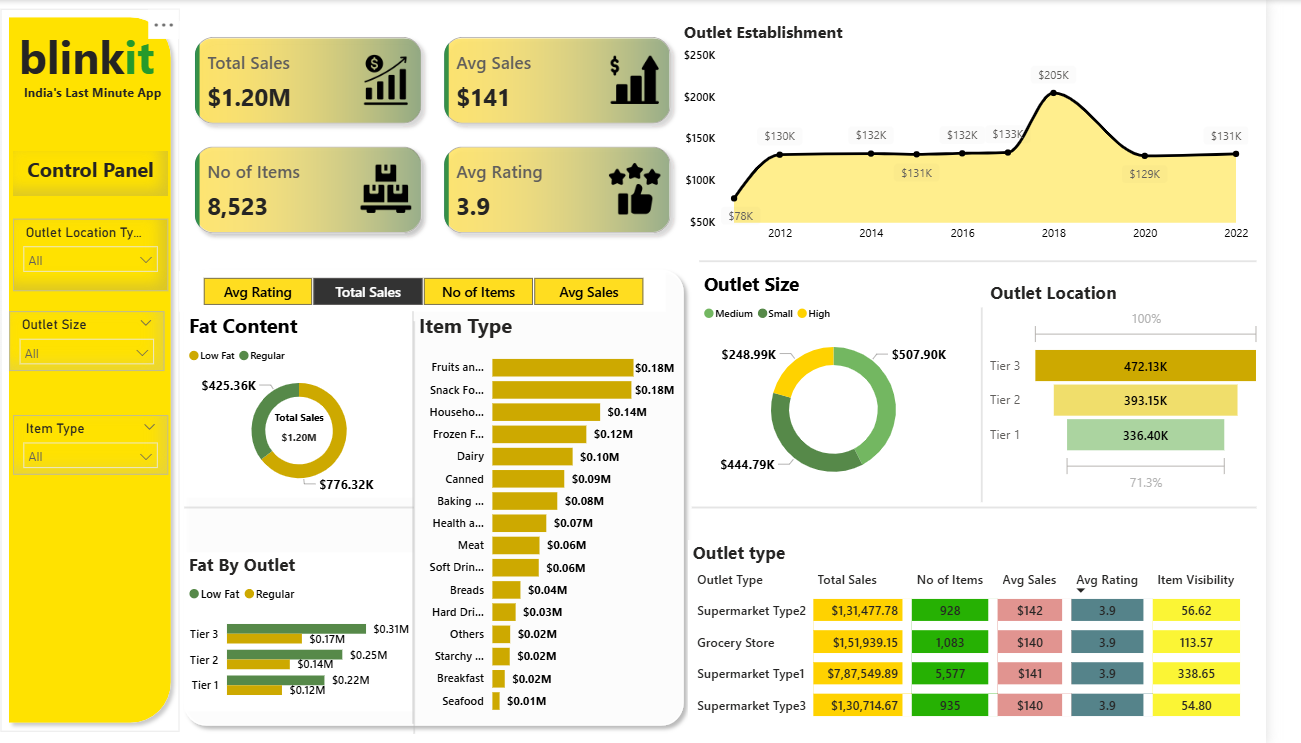

This screenshot's page, from the dashboard's own definition file:
{"tool":"powerbi","page":{"name":"Page 1","canvas":[1370,800],"ordinal":0},"visuals":[{"type":"shape","box":[13.4,9.4,191.7,774.8],"z":0},{"type":"textbox","box":[6.7,22.8,198.4,79.1],"z":1000},{"type":"textbox","box":[33.5,84.5,198.4,28.2],"z":2000},{"type":"cardVisual","fields":{"Data":["BlinkIT Grocery Data.Total Sales","BlinkIT Grocery Data.Avg Sales","BlinkIT Grocery Data.No of Items","BlinkIT Grocery Data.Avg Rating"]},"box":[205.1,22.8,545.6,245.3],"z":3000},{"type":"shape","box":[201,280,554,507],"z":4000},{"type":"donutChart","title":"Fat Content","fields":{"Y":["BlinkIT Grocery Data.Total Sales"],"Category":["BlinkIT Grocery Data.Item Fat Content"]},"box":[210.5,333.8,246.7,199.7],"z":5000},{"type":"slicer","fields":{"Values":["Metrics.Metrics"]},"box":[205.1,290.9,521.5,42.9],"z":6000},{"type":"cardVisual","fields":{"Data":["BlinkIT Grocery Data.Total Sales"]},"box":[268.1,423.6,131.4,64.3],"z":7000},{"type":"clusteredBarChart","title":"Fat By Outlet","fields":{"Y":["BlinkIT Grocery Data.Total Sales"],"Category":["BlinkIT Grocery Data.Outlet Location Type"],"Series":["BlinkIT Grocery Data.Item Fat Content"]},"box":[210.5,592.5,246.7,170.2],"z":8000},{"type":"shape","box":[210.5,533.5,246.7,21.4],"z":9000},{"type":"shape","box":[445,333.8,21.4,442.4],"z":10000},{"type":"barChart","title":"Item Type","fields":{"Y":["BlinkIT Grocery Data.Total Sales"],"Category":["BlinkIT Grocery Data.Item Type"]},"box":[457.1,333.8,284.2,442.4],"z":11000},{"type":"lineChart","title":"Outlet Establishment","fields":{"Y":["BlinkIT Grocery Data.Total Sales"],"Category":["BlinkIT Grocery Data.Outlet Establishment Year"]},"box":[741.3,22.8,615.3,245.3],"z":12000},{"type":"shape","box":[762.7,269.4,597.9,21.4],"z":13000},{"type":"donutChart","title":"Outlet Size","fields":{"Y":["BlinkIT Grocery Data.Total Sales"],"Category":["BlinkIT Grocery Data.Outlet Size"]},"box":[762.7,290.9,288.2,242.6],"z":14000},{"type":"shape","box":[446.4,344.5,21.4,442.4],"z":15000},{"type":"shape","box":[1057.6,329.8,16.1,209.1],"z":17000},{"type":"funnel","title":"Outlet Location","fields":{"Y":["Sum(BlinkIT Grocery Data.Sales)"],"Category":["BlinkIT Grocery Data.Outlet Location Type"]},"box":[1069.7,300.3,300.3,233.2],"z":18000},{"type":"shape","box":[754.7,533.5,605.9,21.4],"z":19000},{"type":"pivotTable","title":"Outlet type","fields":{"Rows":["BlinkIT Grocery Data.Outlet Type"],"Values":["BlinkIT Grocery Data.Total Sales","BlinkIT Grocery Data.No of Items","BlinkIT Grocery Data.Avg Sales","BlinkIT Grocery Data.Avg Rating","Sum(BlinkIT Grocery Data.Item Visibility)"]},"box":[750.7,579.1,605.9,197.1],"z":20000},{"type":"slicer","fields":{"Values":["BlinkIT Grocery Data.Outlet Location Type"]},"box":[26.8,234.6,166.2,77.7],"z":21000},{"type":"slicer","fields":{"Values":["BlinkIT Grocery Data.Outlet Size"]},"box":[22.8,333.8,166.2,64.3],"z":22000},{"type":"slicer","fields":{"Values":["BlinkIT Grocery Data.Item Type"]},"box":[26.8,445,166.2,64.3],"z":23000},{"type":"textbox","box":[26.8,162.2,166.2,48.3],"z":24000}]}

Visuals, with their boxes in screenshot pixels (x1, y1, x2, y2), scaled from the page's 1370x800 canvas onto the 1301x743 screenshot:
shape: crop(13, 9, 195, 728)
textbox: crop(6, 21, 195, 95)
textbox: crop(32, 78, 220, 105)
cardVisual - BlinkIT Grocery Data.Total Sales x BlinkIT Grocery Data.Avg Sales: crop(195, 21, 713, 249)
shape: crop(191, 260, 717, 731)
"Fat Content" donutChart: crop(200, 310, 434, 495)
slicer - Metrics.Metrics: crop(195, 270, 690, 310)
cardVisual - BlinkIT Grocery Data.Total Sales: crop(255, 393, 379, 453)
"Fat By Outlet" clusteredBarChart: crop(200, 550, 434, 708)
shape: crop(200, 495, 434, 515)
shape: crop(423, 310, 443, 721)
"Item Type" barChart: crop(434, 310, 704, 721)
"Outlet Establishment" lineChart: crop(704, 21, 1288, 249)
shape: crop(724, 250, 1292, 270)
"Outlet Size" donutChart: crop(724, 270, 998, 495)
shape: crop(424, 320, 444, 731)
shape: crop(1004, 306, 1020, 501)
"Outlet Location" funnel: crop(1016, 279, 1300, 495)
shape: crop(717, 495, 1292, 515)
"Outlet type" pivotTable: crop(713, 538, 1288, 721)
slicer - BlinkIT Grocery Data.Outlet Location Type: crop(25, 218, 183, 290)
slicer - BlinkIT Grocery Data.Outlet Size: crop(22, 310, 179, 370)
slicer - BlinkIT Grocery Data.Item Type: crop(25, 413, 183, 473)
textbox: crop(25, 151, 183, 196)
